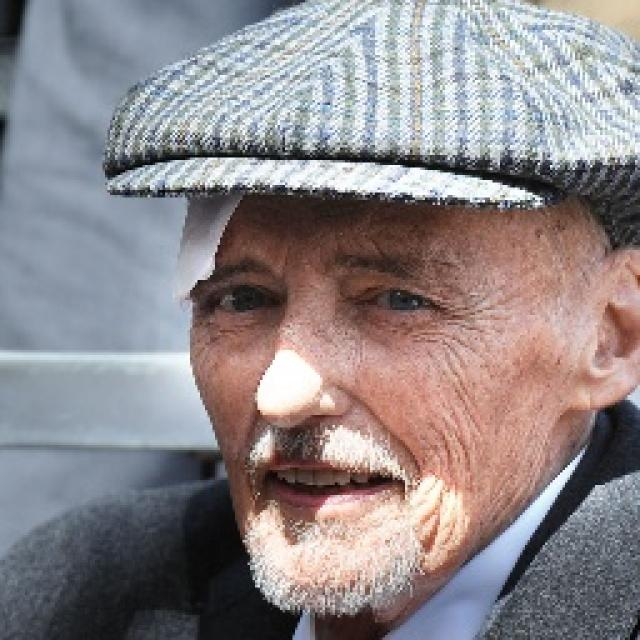earlobe: (573, 359, 624, 413)
eye: (360, 282, 439, 316), (211, 286, 277, 314)
nose: (266, 417, 342, 449)
wholeear: (570, 247, 640, 413)
